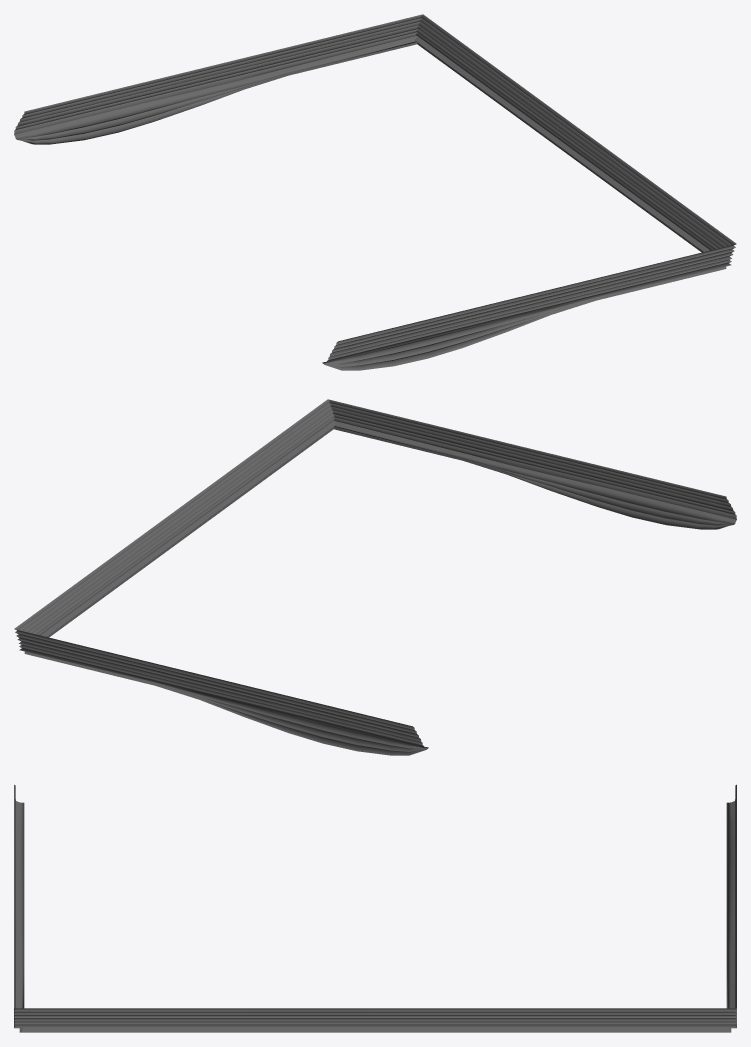
Rendered from Book_11_book_front_11_2.obj.
3 views of the same model, one above another, from view 1: azimuth 30°, elevation 25°; view 2: azimuth 150°, elevation 25°; view 3: azimuth 270°, elevation 25° (orthographic). The views are drawn at different scales.
Size of the model in its own units: 0.1749 by 0.017 by 0.2317.
Materials: 1 (1 with a texture image).
